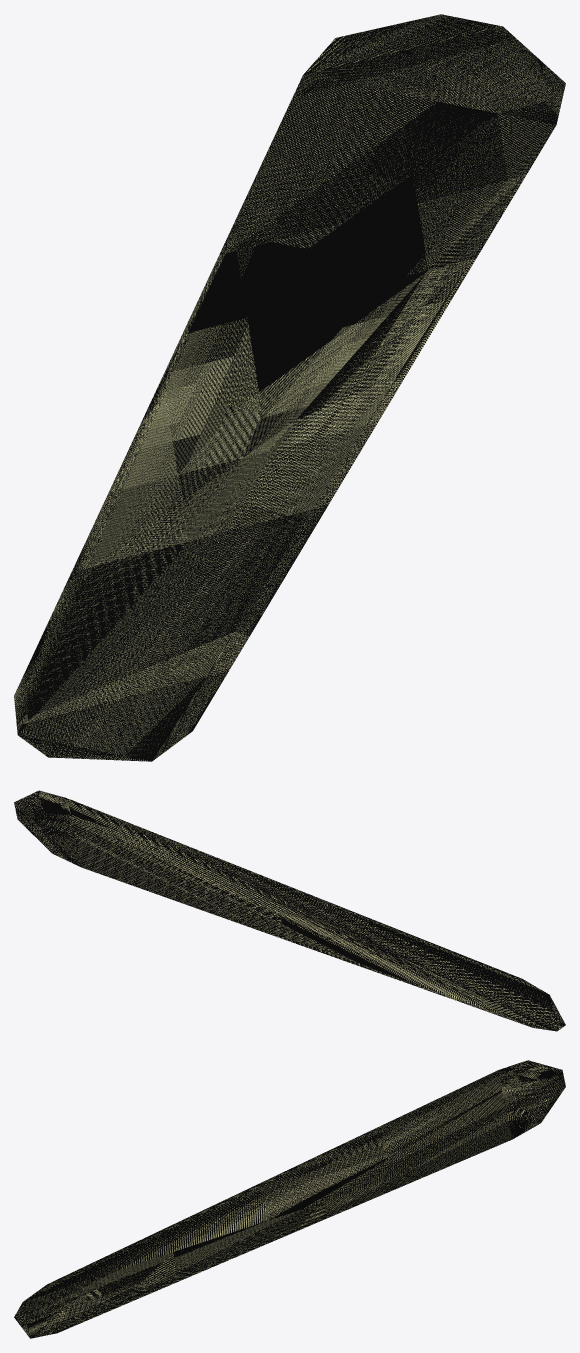
Rendered from original-31.obj.
3 views of the same model, one above another, from view 1: azimuth 30°, elevation 25°; view 2: azimuth 150°, elevation 25°; view 3: azimuth 330°, elevation 25° (orthographic). The views are drawn at different scales.
Parts seen in each view (by area): view 1: mesh48/mesh48-geometry#mesh48-geometry; view 2: mesh48/mesh48-geometry#mesh48-geometry; view 3: mesh48/mesh48-geometry#mesh48-geometry.
Boxes of the visible parts, x1,y1,x2,y2 form: mesh48/mesh48-geometry#mesh48-geometry: [14, 14, 565, 761]; mesh48/mesh48-geometry#mesh48-geometry: [14, 790, 565, 1031]; mesh48/mesh48-geometry#mesh48-geometry: [14, 1060, 565, 1338].
Bounding box in the file's own units: 0.0503 × 0.0259 × 0.0403.
